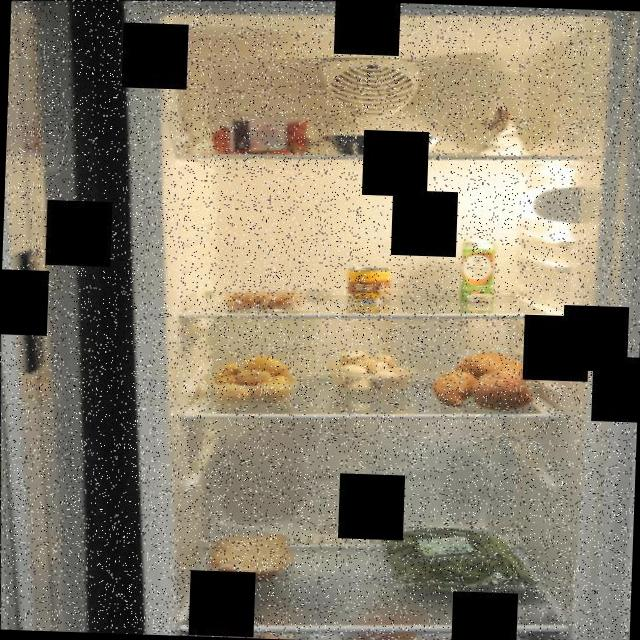Champiñones: (322, 343, 417, 399)
Gambas/Langostinos: (222, 286, 308, 314)
Patata: (206, 348, 300, 411)
